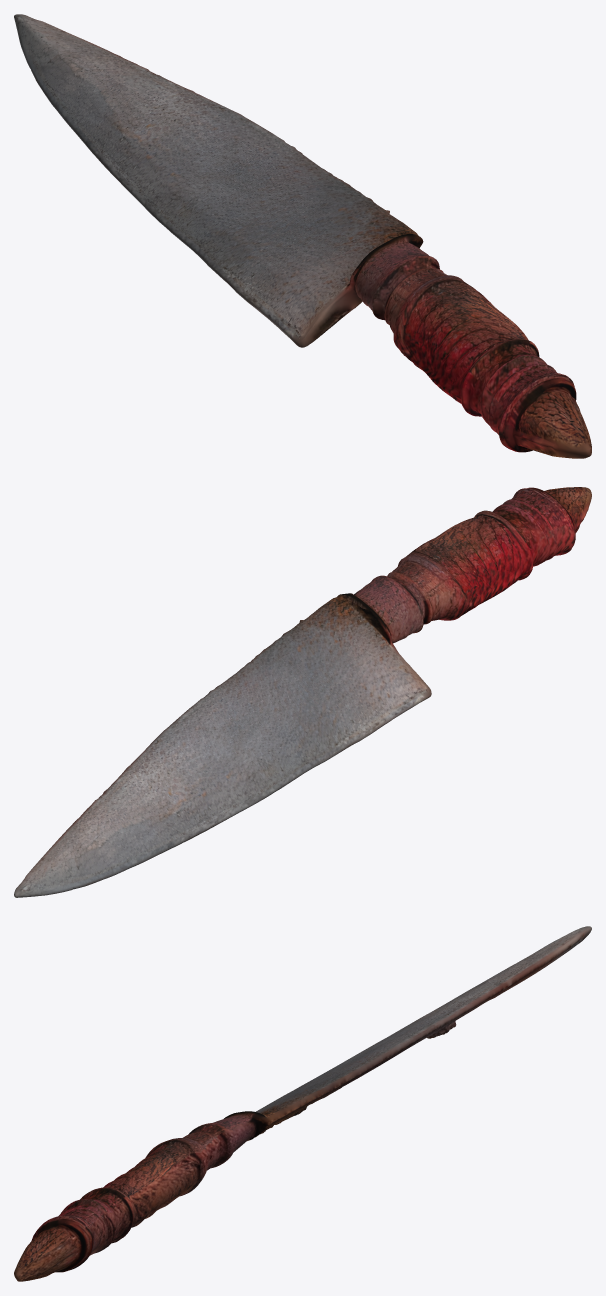
The model's file is old_work_knife_v004.glb.
The picture shows the model from 3 angles, top to bottom: view 1: azimuth 30°, elevation 25°; view 2: azimuth 150°, elevation 25°; view 3: azimuth 330°, elevation 25°; orthographic projection. The views are drawn at different scales.
Visible parts, largest first — view 1: old_work_knife_v004; view 2: old_work_knife_v004; view 3: old_work_knife_v004.
Boxes of the visible parts, box(x1,y1,x2,y2) form: old_work_knife_v004: box(14, 14, 591, 458); old_work_knife_v004: box(14, 487, 591, 897); old_work_knife_v004: box(14, 926, 591, 1281).
Size of the model in its own units: 0.0441 by 0.0331 by 0.3659.
Materials: 1 (1 with a texture image).
